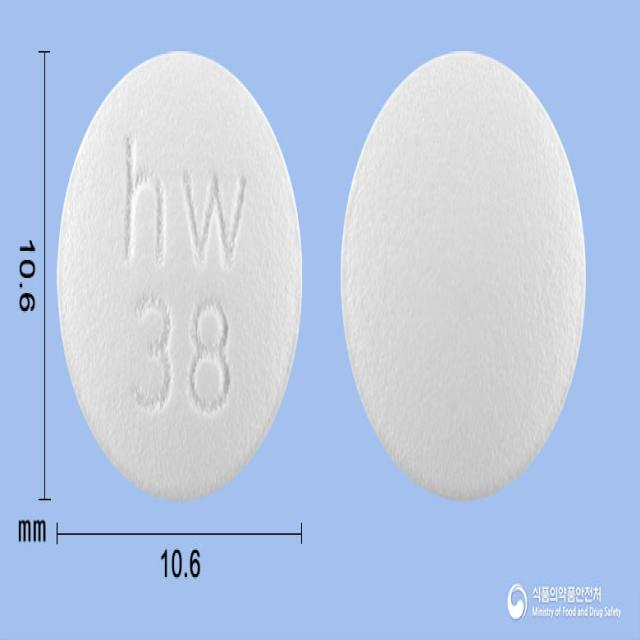Cirokan: (53, 44, 309, 509), (336, 47, 590, 506)
